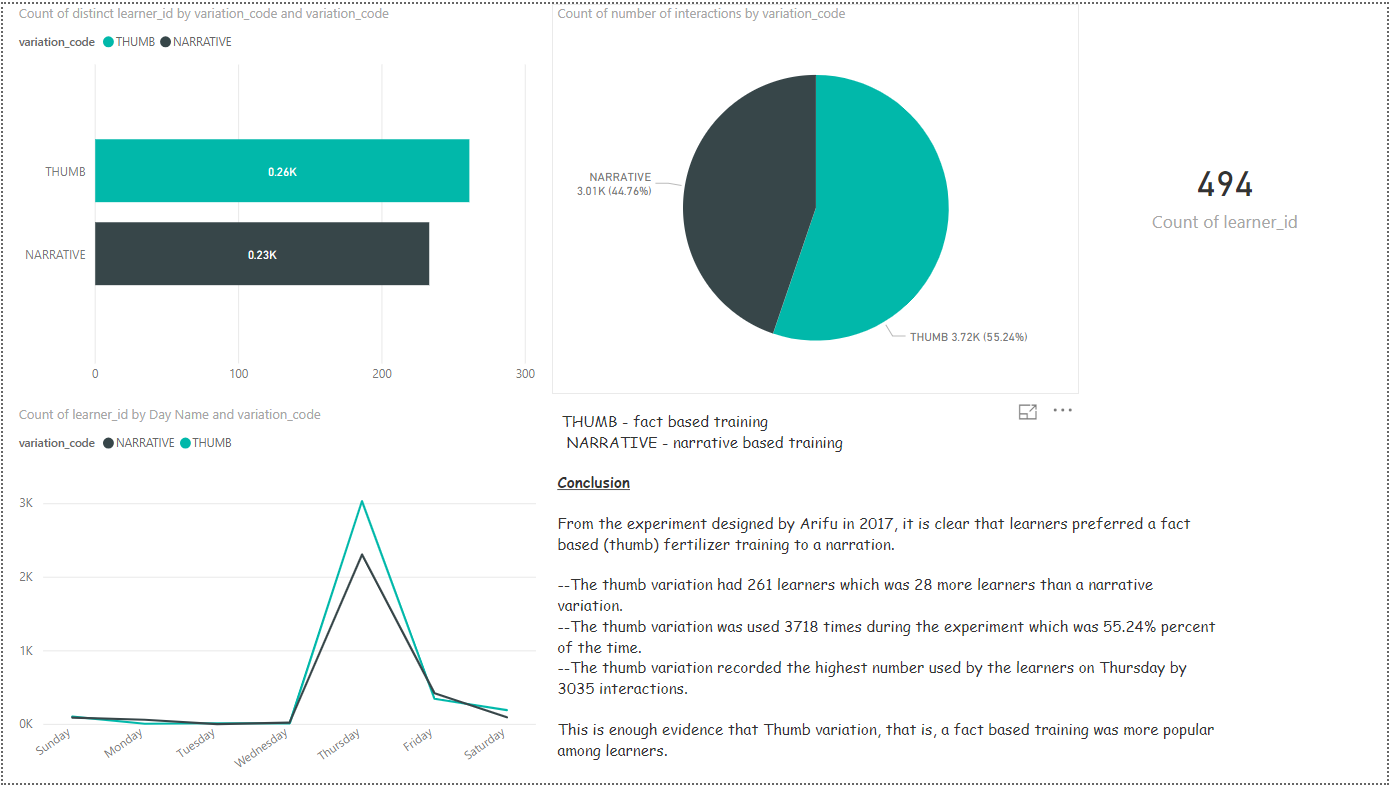

The dashboard page shown, as its layout file describes it:
{"tool":"powerbi","page":{"name":"Page 1","canvas":[1280,720],"ordinal":0},"visuals":[{"type":"barChart","title":"Count of distinct learner_id by variation_code and variation_code","fields":{"Category":["challenge 2 dataset (fertilizer).variation_code"],"Y":["Count(challenge 2 dataset (fertilizer).learner_id)"],"Series":["challenge 2 dataset (fertilizer).variation_code"]},"box":[10.4,0,487.7,360.6],"z":0},{"type":"card","fields":{"Values":["Count(challenge 2 dataset (fertilizer).learner_id)"]},"box":[981.2,0,299.3,349],"z":4},{"type":"lineChart","fields":{"Category":["challenge 2 dataset (fertilizer).Day Name"],"Series":["challenge 2 dataset (fertilizer).variation_code"],"Y":["CountNonNull(challenge 2 dataset (fertilizer).learner_id)"]},"box":[10,371,488,349],"z":4},{"type":"textbox","box":[508.5,371,622.9,349],"z":5},{"type":"pieChart","title":"Count of number of interactions by variation_code","fields":{"Category":["challenge 2 dataset (fertilizer).variation_code"],"Y":["CountNonNull(challenge 2 dataset (fertilizer).learner_id)"]},"box":[508,0,488,361],"z":2000}]}

Visuals, with their boxes in screenshot pixels (x1, y1, x2, y2), scaled from the page's 1280x720 canvas onto the 1393x789 screenshot:
"Count of distinct learner_id by variation_code and variation_code" barChart: Rect(11, 0, 542, 395)
card - Count(challenge 2 dataset (fertilizer).learner_id): Rect(1068, 0, 1392, 382)
lineChart - challenge 2 dataset (fertilizer).Day Name x challenge 2 dataset (fertilizer).variation_code: Rect(11, 407, 542, 788)
textbox: Rect(553, 407, 1231, 788)
"Count of number of interactions by variation_code" pieChart: Rect(553, 0, 1084, 396)
